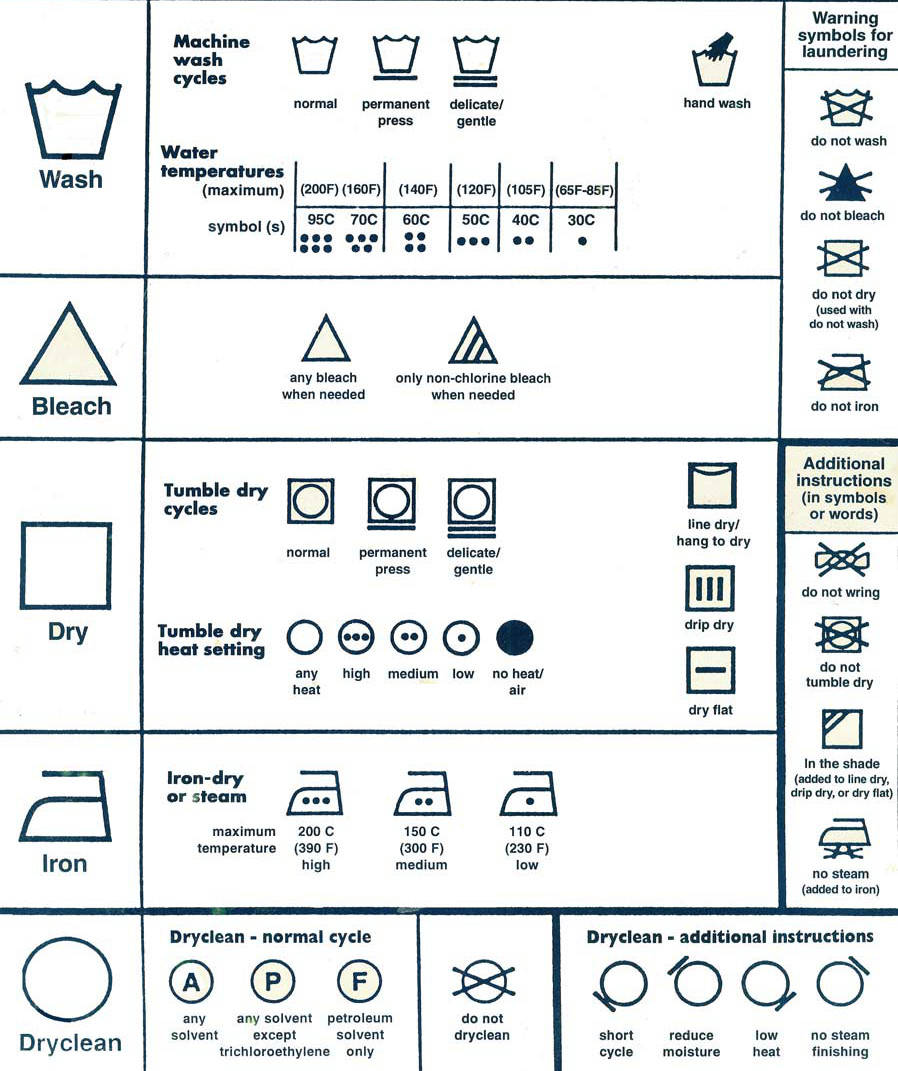do_not_bleach: (813, 159, 882, 210)
do_not_dry_clean: (444, 956, 525, 1005)
do_not_iron: (809, 352, 878, 400)
do_not_wash: (811, 87, 878, 129)
